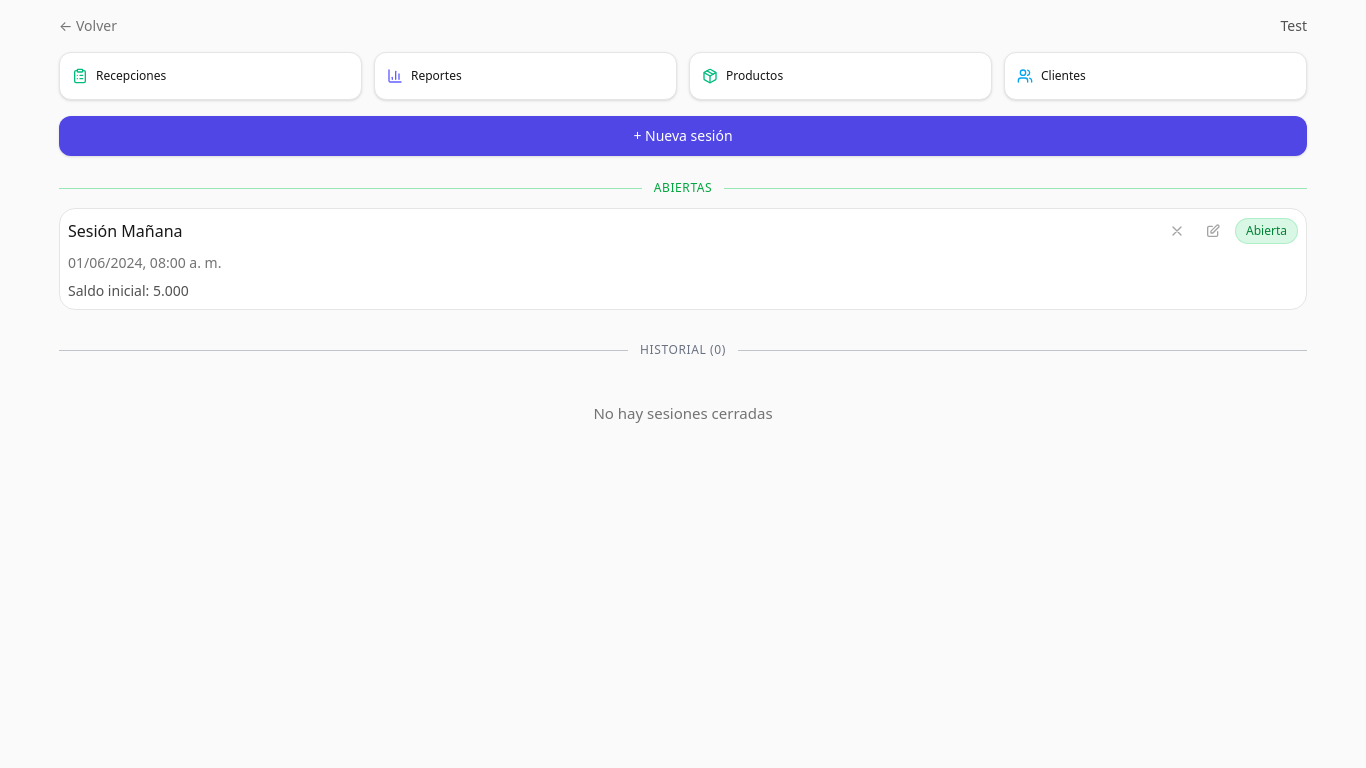
Test: BranchSessions › should show close session modal when clicking Cerrar on open session
Expected: the heading "Sesión Mañana" is shown, [68,219,182,243]
Click the button titled "Cerrar". click: coordinates (1177, 231)
box: [1163,217,1191,245]
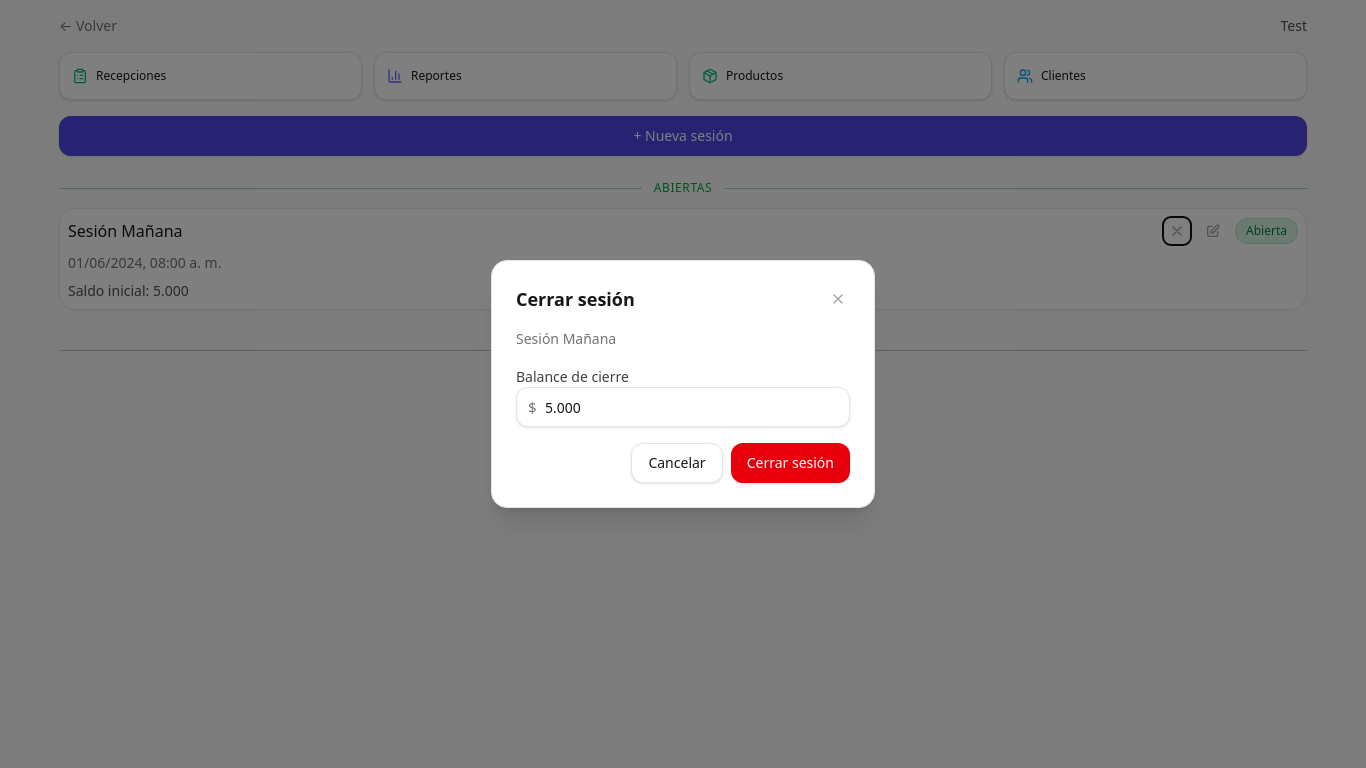
Expected: the number of headings "Cerrar sesión" is 2, [516,285,635,313]; [731,443,850,483]
